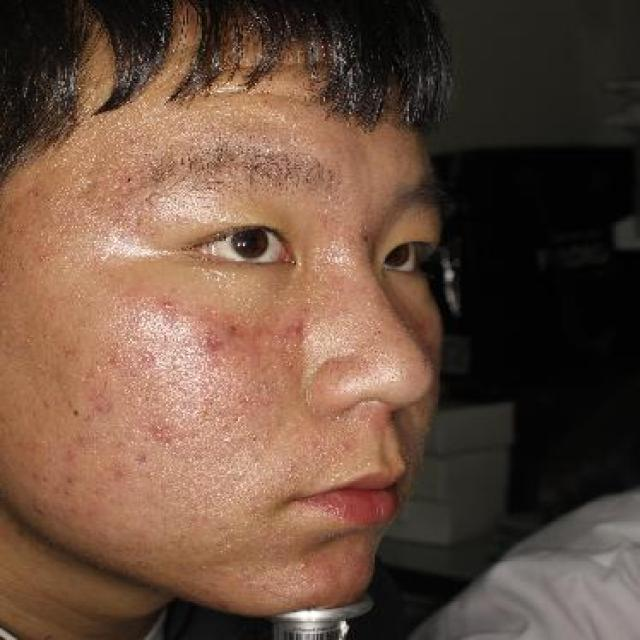Whiteheads: (291, 554, 318, 583), (154, 292, 180, 316)
